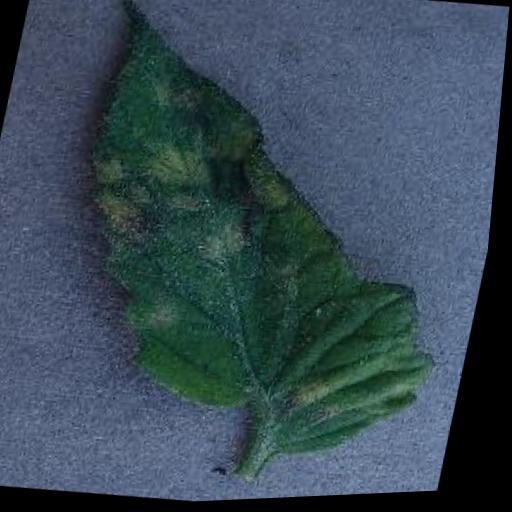Leaf Mold: (32, 0, 512, 485)
